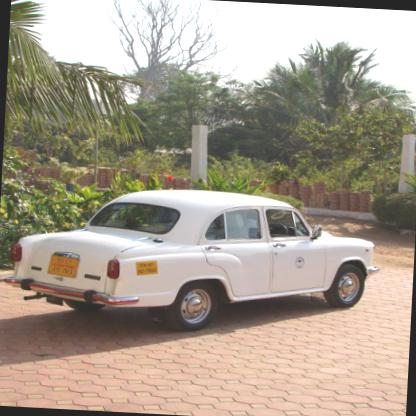car: (6, 179, 377, 338)
